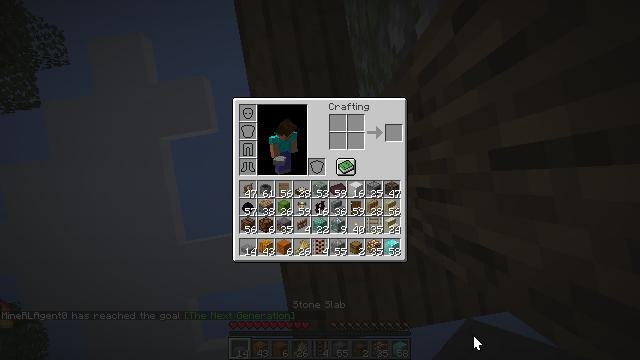cursor: (473, 335, 483, 351)
